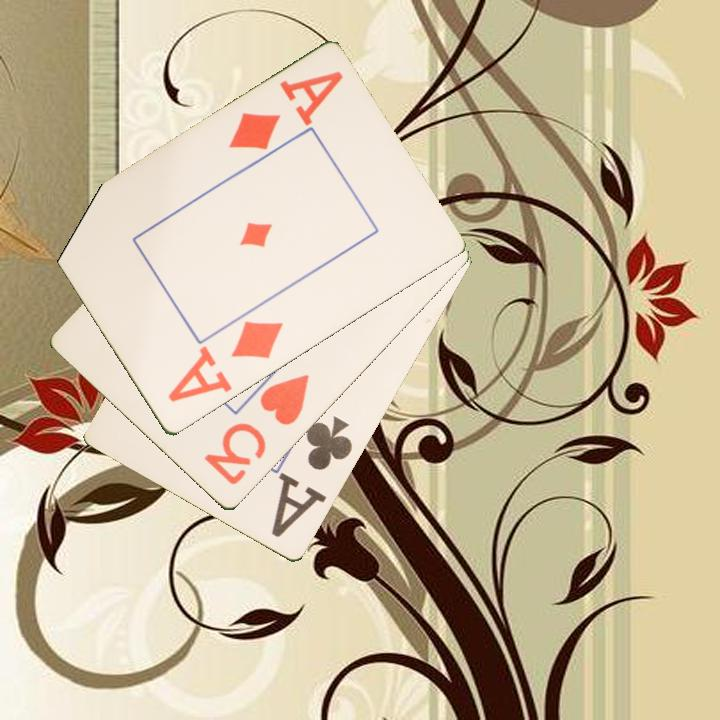3h: (200, 371, 313, 489)
Ac: (267, 413, 356, 542)
Ad: (164, 317, 286, 406), (225, 68, 346, 154)
